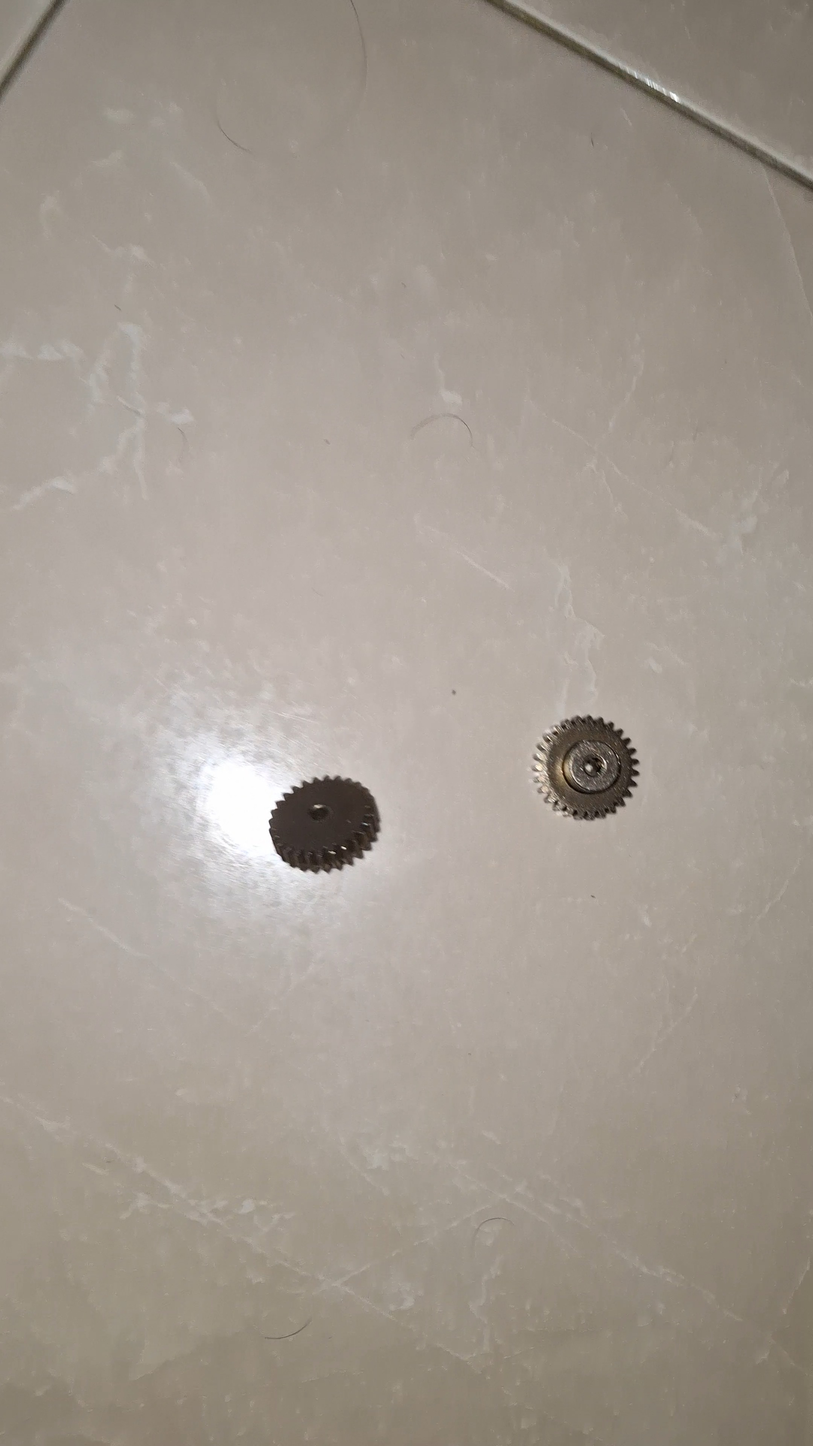spur gear: (534, 717, 638, 819), (269, 777, 379, 871)
